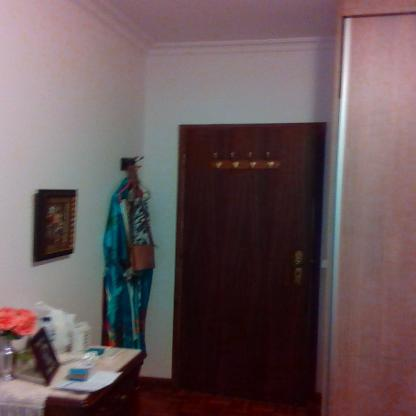door: (186, 127, 314, 403)
hinged: (182, 152, 188, 167), (179, 220, 184, 237)
knob: (291, 258, 303, 270)
